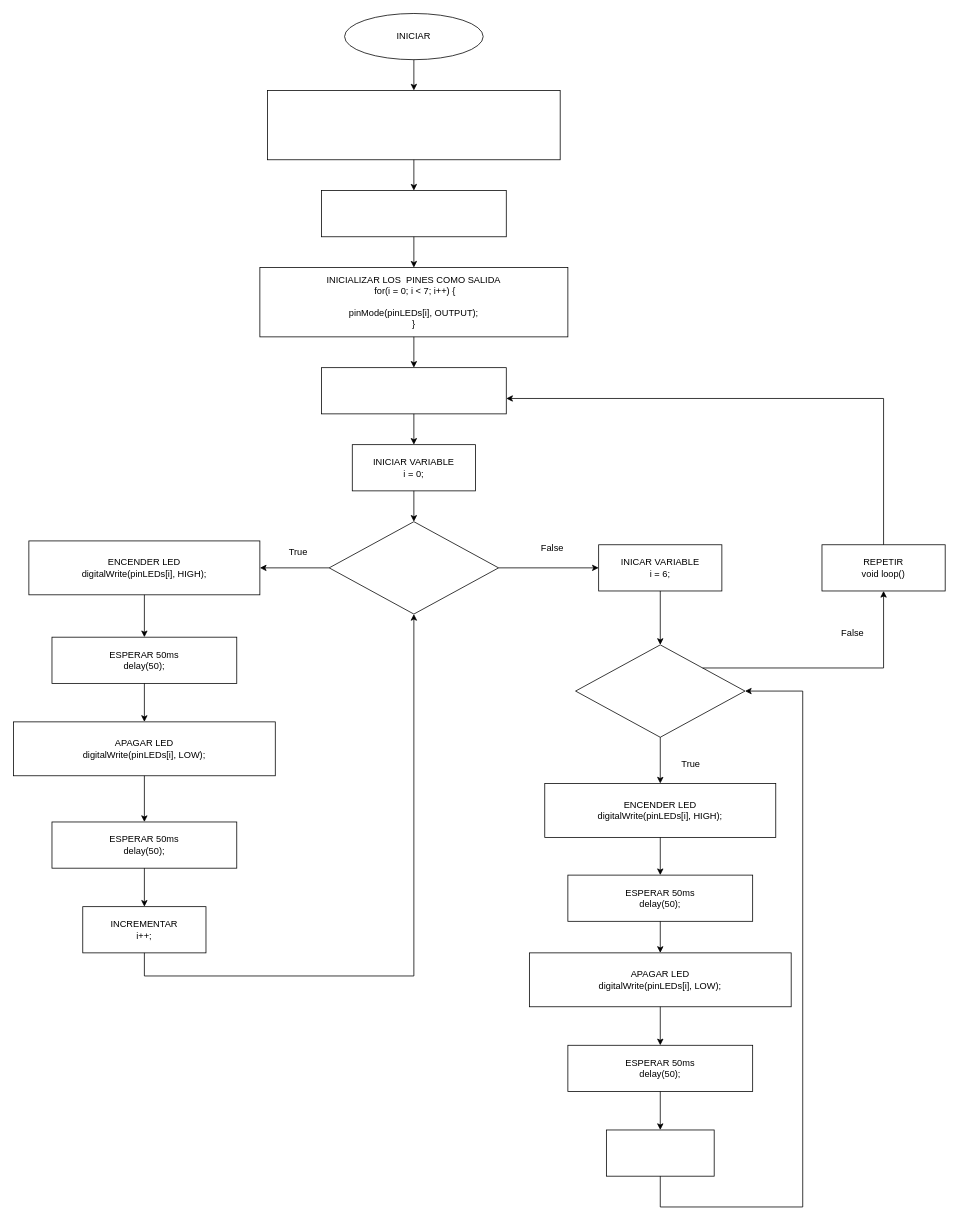
The diagram is 959 pixels wide and 1227 high, and some of its shapes have lost their labels. Here are the shapes that lost their labels. From the top down, the centre of each, then its label:
(413,125): DECLARAR VARIABLES int pinLEDs[7] = {5, 6, 7, 8, 9, 10, 11}; int i = 0;
(413,213): INICIAR void setup()
(413,390): INICIAR void loop()
(413,567): i < 7 ?
(660,690): i >= 0 ?
(660,1152): REDUCIR i--;
